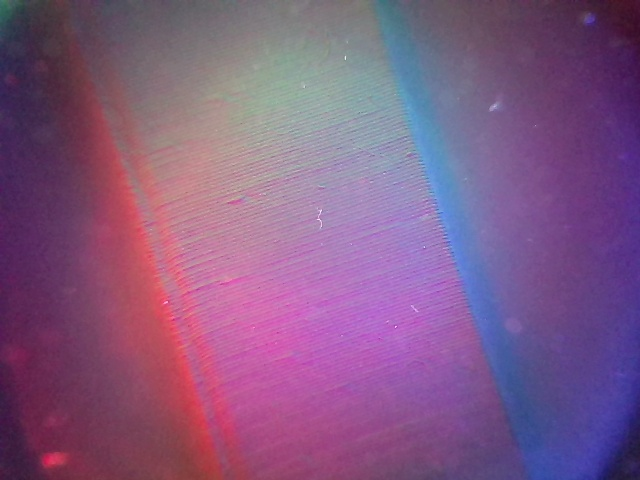contact: (73, 0, 521, 479)
